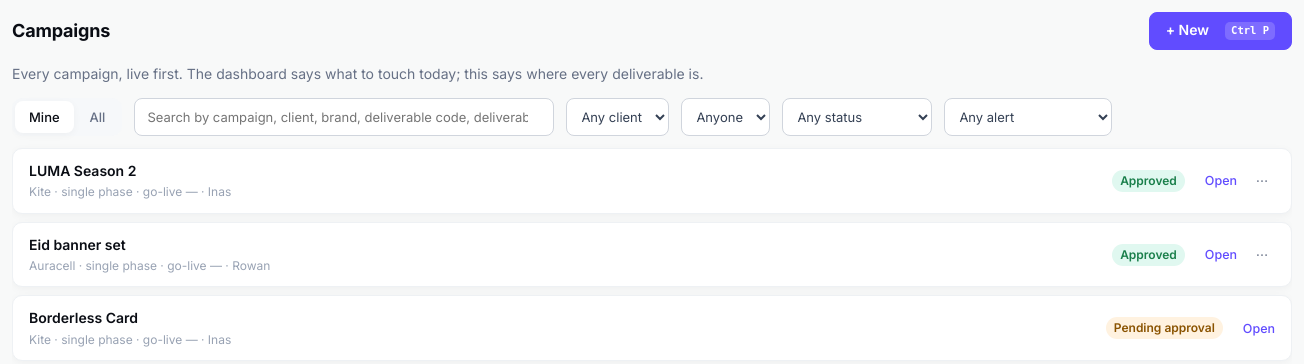
Scenario: CampaignsPage — Mine and All, and the filters (CG-00, I57.3) › filters by client, account manager and status
Select "Auracell" in the dropdown with test id "campaigns-filter-client": (618, 117) 566,98 -> 669,136
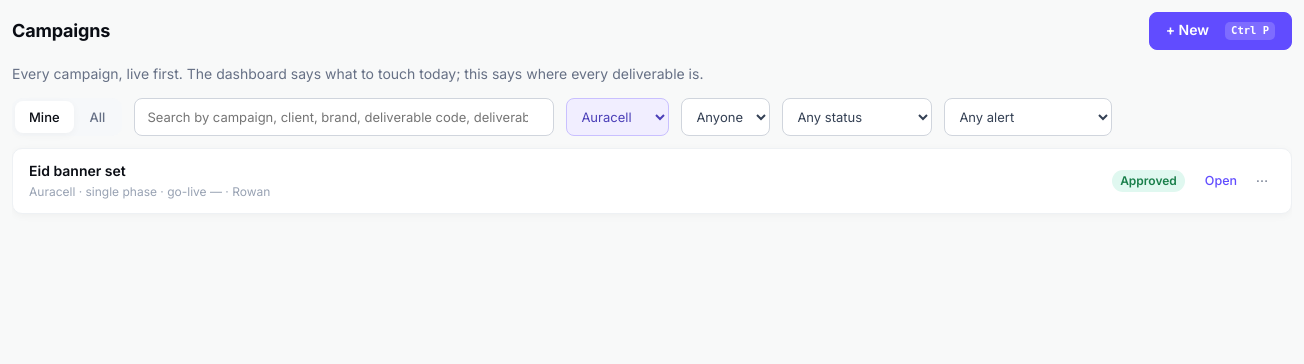
Expected: the list item with test id "campaign-row-theirs" is shown, 12,148 -> 1292,214
Expected: the list item with test id "campaign-row-mine1" is gone
Select "Any client" in the dropdown with test id "campaigns-filter-client": (618, 117) 566,98 -> 669,136
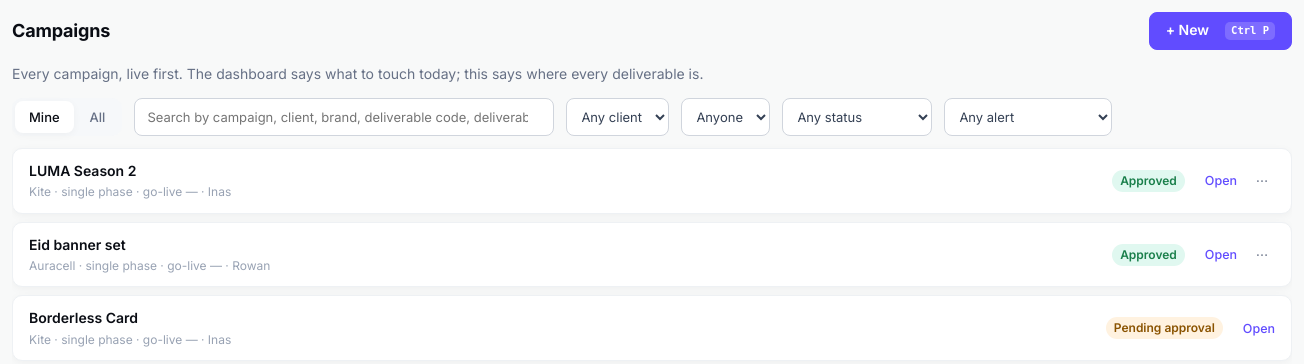
Select "Inas" in the dropdown with test id "campaigns-filter-am": (726, 117) 681,98 -> 770,136
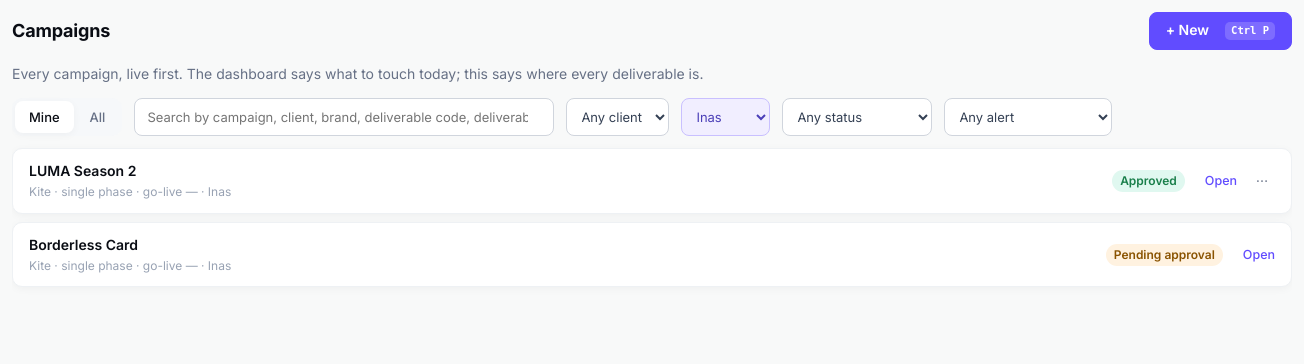
Expected: the list item with test id "campaign-row-theirs" is gone
Select "Pending approval" in the dropdown with test id "campaigns-filter-status": (857, 117) 782,98 -> 932,136
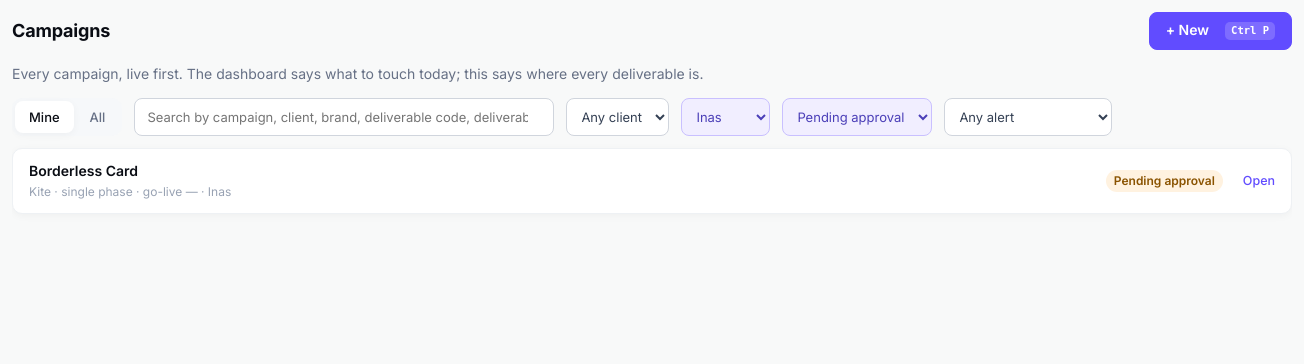
Expected: the list item with test id "campaign-row-pending" is shown, 12,148 -> 1292,214
Expected: the list item with test id "campaign-row-mine1" is gone
